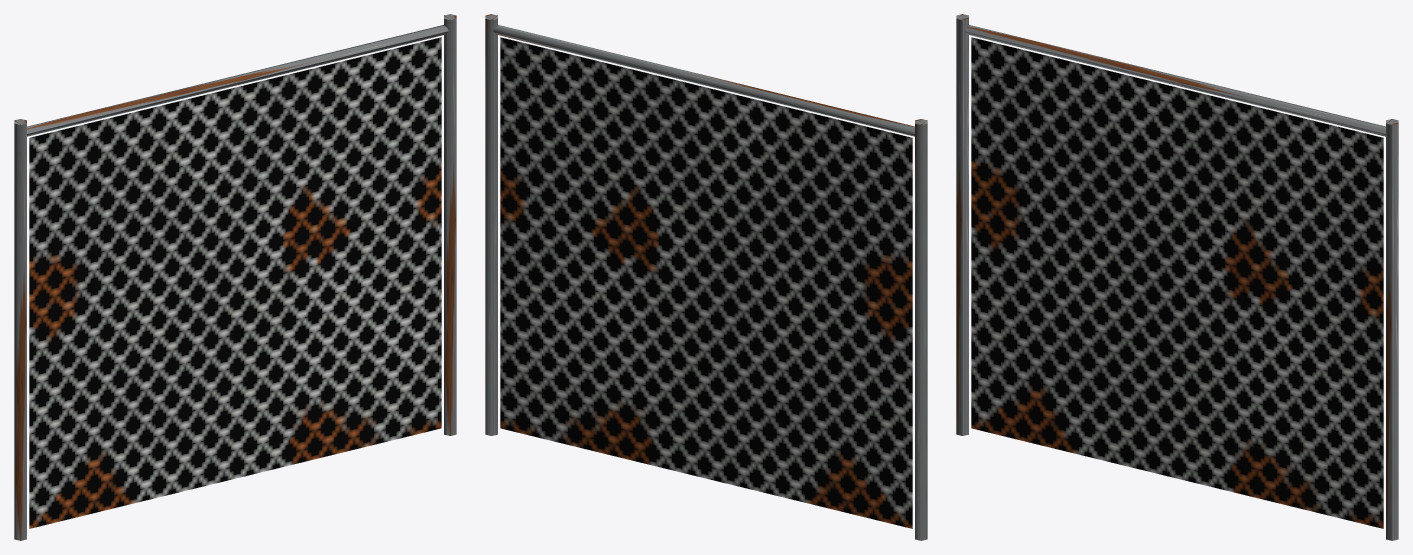
Rendered from fence_chainlink.obj.
The picture shows the model from 3 angles, left to right: view 1: azimuth 30°, elevation 25°; view 2: azimuth 150°, elevation 25°; view 3: azimuth 330°, elevation 25°; orthographic projection.
Parts seen in each view (by area): view 1: fence_chainlink; view 2: fence_chainlink; view 3: fence_chainlink.
Boxes of the visible parts, box(x1,y1,x2,y2) form: fence_chainlink: box(14, 14, 456, 540); fence_chainlink: box(485, 14, 927, 540); fence_chainlink: box(956, 14, 1398, 540).
Bounding box in the file's own units: 2.06 × 1.85 × 0.052.
Materials: 1 (1 with a texture image).
